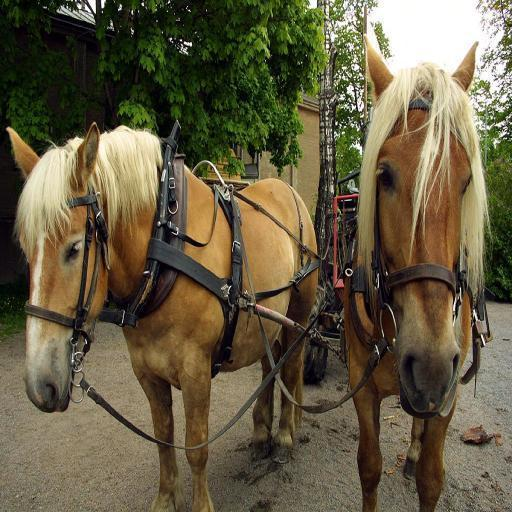horse: (2, 126, 320, 512), (343, 30, 492, 512)
